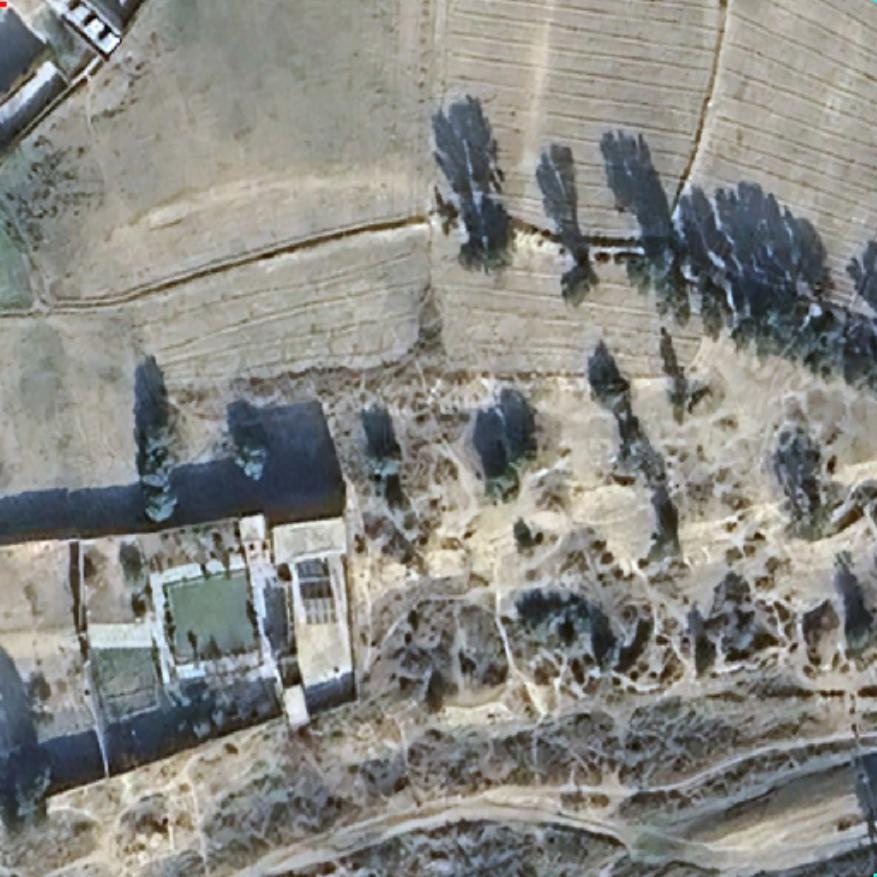Solarpanel: (302, 594, 338, 629)
